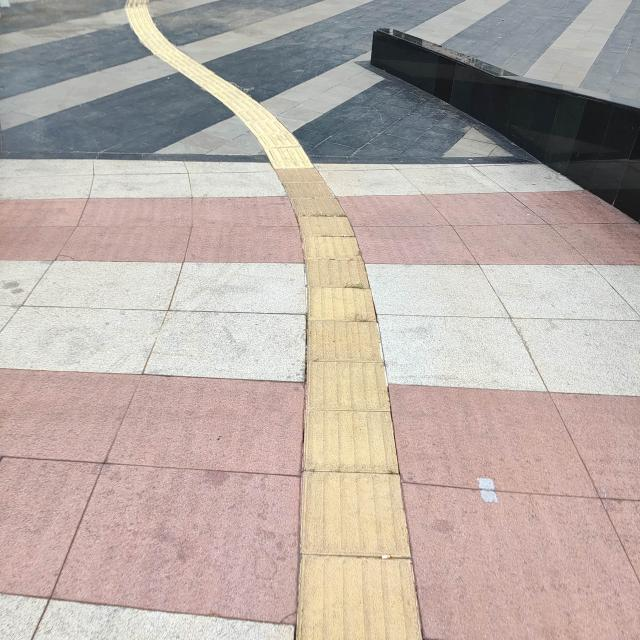lurus: (282, 192, 413, 640)
